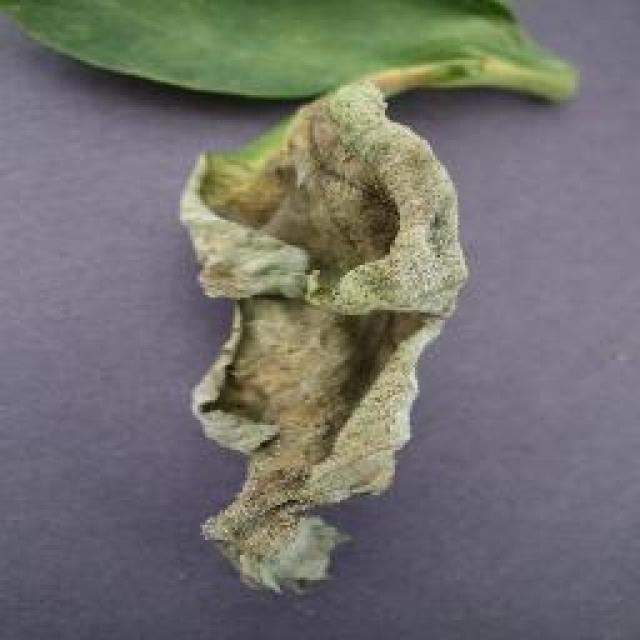Tomato Late Blight: (170, 112, 515, 583)
